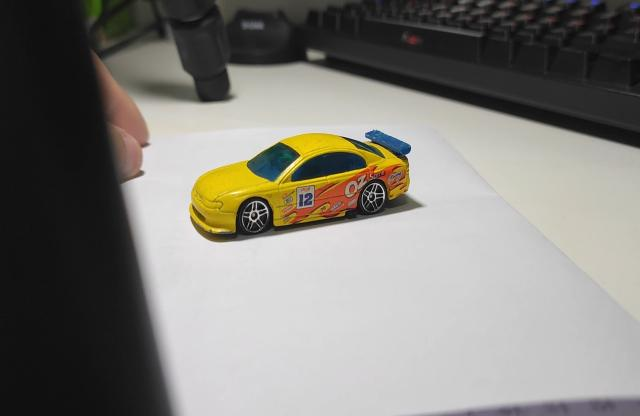02_OZSOME: (188, 131, 410, 244)
